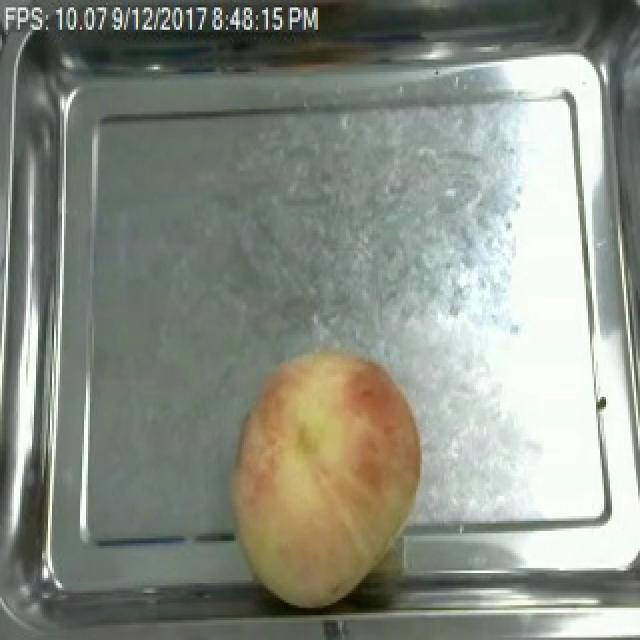Fruit: (222, 340, 434, 615)
